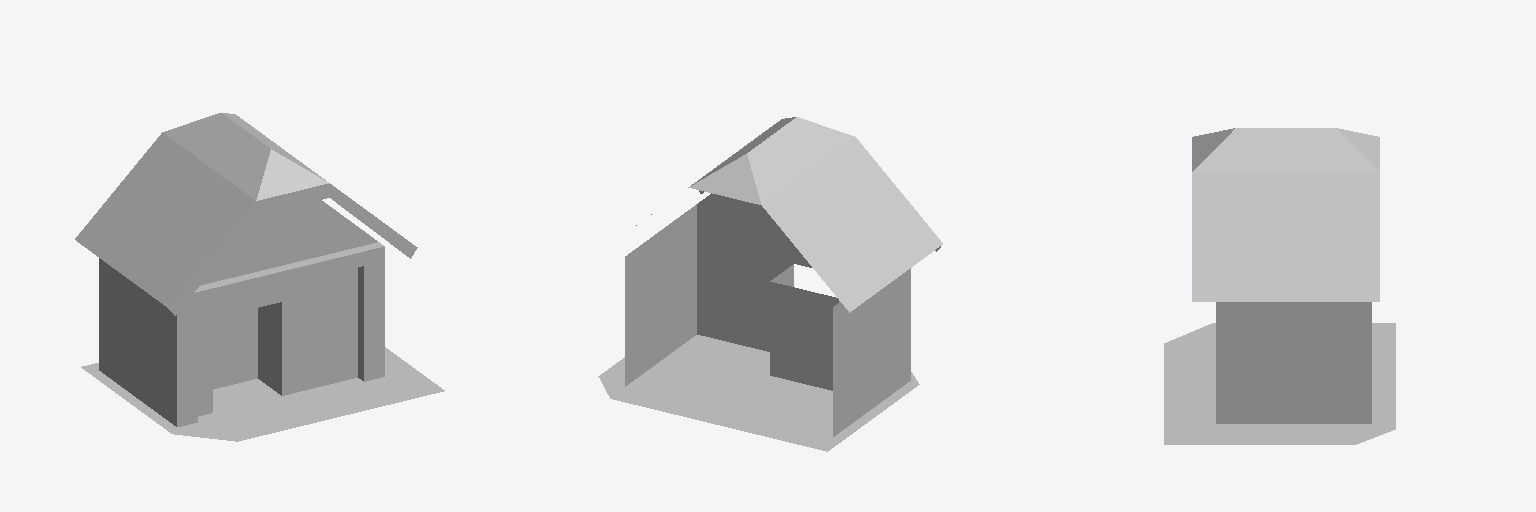
The model's file is Friend's House.obj.
The picture shows the model from 3 angles: view 1: azimuth 30°, elevation 25°; view 2: azimuth 150°, elevation 25°; view 3: azimuth 270°, elevation 25°; orthographic projection.
Visible parts, largest first — view 1: polygon2, polygon1, polygon0; view 2: polygon2, polygon1; view 3: polygon2, polygon1.
Part boxes in pixels (bbox=[...]): polygon2: bbox=[75, 113, 417, 426]; polygon1: bbox=[81, 347, 444, 441]; polygon0: bbox=[301, 296, 342, 342]; polygon2: bbox=[625, 117, 942, 436]; polygon1: bbox=[598, 335, 919, 451]; polygon2: bbox=[1192, 128, 1379, 423]; polygon1: bbox=[1164, 323, 1395, 444].
Size of the model in its own units: 76 by 68.85 by 58.